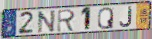1: (80, 6, 92, 32)
2: (18, 10, 35, 36)
J: (118, 6, 133, 29)
N: (36, 9, 57, 34)
Q: (97, 6, 115, 30)
R: (56, 8, 77, 33)
